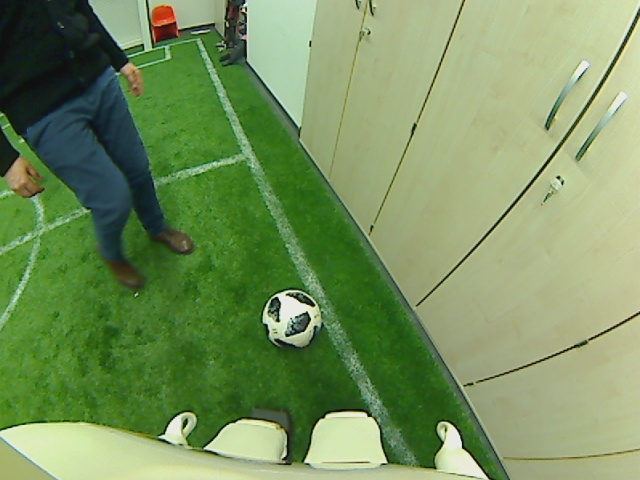ball: (260, 288, 321, 348)
